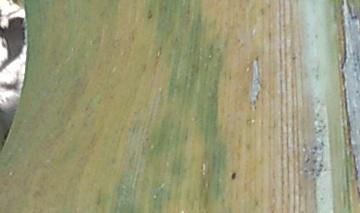tarspot: (229, 171, 238, 180), (147, 11, 153, 21)
